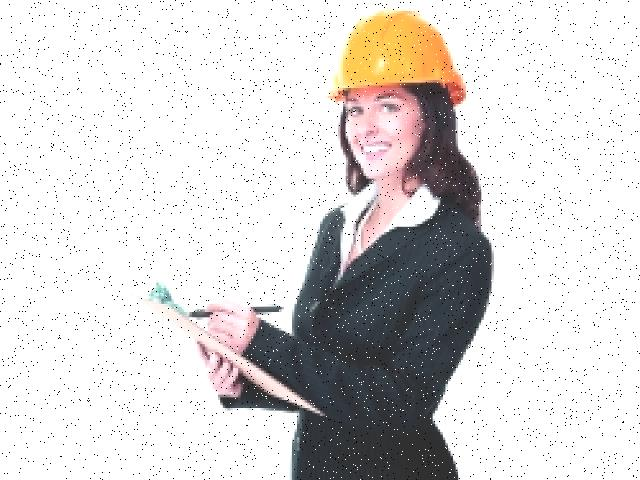Helmet: (317, 0, 475, 117)
